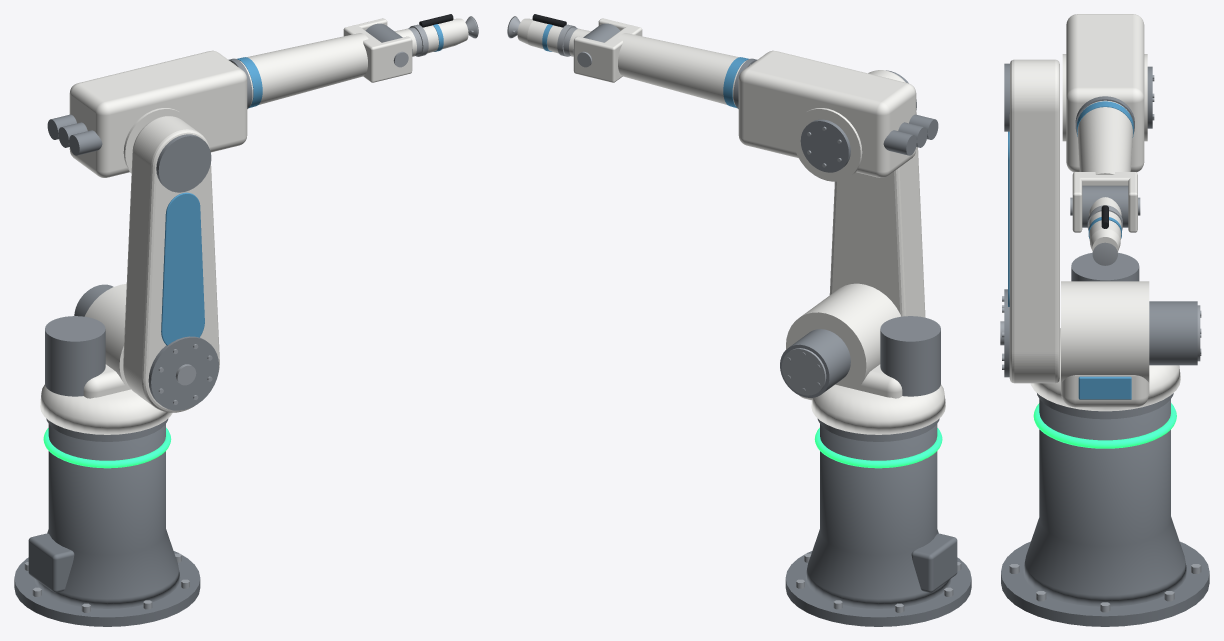
File: robot_painting.glb
3 renders of one model, left to right at view 1: azimuth 30°, elevation 25°; view 2: azimuth 150°, elevation 25°; view 3: azimuth 270°, elevation 25°, orthographic. The views are drawn at different scales.
Parts seen in each view (by area): view 1: Pedestal_base, Link3_body, Link2_body, Link4_body, Link1_body, Link2_joint, Link2_accent, Link1_joint, Link3_joint, StatusRing, BellAtomizer_body, Pedestal_joint; view 2: Pedestal_base, Link3_body, Link2_body, Link1_body, Link4_body, Link1_joint, Link3_joint, Link1_steel, StatusRing, BellAtomizer_body, Pedestal_joint; view 3: Pedestal_base, Link2_body, Link1_body, Link3_body, Link4_body, Link1_joint, StatusRing, Link1_accent, Link5_joint, Pedestal_joint, Link2_joint, BellAtomizer_body (+6 smaller).
Part boxes in pixels (x1=…): Pedestal_base: x1=14, y1=424, x2=200, y2=626; Link3_body: x1=69, y1=50, x2=247, y2=177; Link2_body: x1=123, y1=116, x2=219, y2=412; Link4_body: x1=232, y1=18, x2=412, y2=105; Link1_body: x1=40, y1=284, x2=172, y2=434; Link2_joint: x1=148, y1=134, x2=218, y2=410; Link2_accent: x1=161, y1=192, x2=204, y2=345; Link1_joint: x1=45, y1=284, x2=113, y2=396; Link3_joint: x1=47, y1=114, x2=102, y2=155; StatusRing: x1=43, y1=427, x2=171, y2=468; BellAtomizer_body: x1=423, y1=18, x2=468, y2=53; Pedestal_joint: x1=46, y1=418, x2=168, y2=441; Pedestal_base: x1=785, y1=424, x2=971, y2=626; Link3_body: x1=738, y1=50, x2=916, y2=181; Link2_body: x1=829, y1=70, x2=925, y2=317; Link1_body: x1=786, y1=283, x2=945, y2=434; Link4_body: x1=573, y1=18, x2=750, y2=105; Link1_joint: x1=780, y1=316, x2=940, y2=397; Link3_joint: x1=800, y1=114, x2=938, y2=172; Link1_steel: x1=781, y1=348, x2=826, y2=395; StatusRing: x1=814, y1=427, x2=942, y2=468; BellAtomizer_body: x1=517, y1=18, x2=562, y2=53; Pedestal_joint: x1=817, y1=418, x2=939, y2=441; Pedestal_base: x1=1001, y1=399, x2=1209, y2=626; Link2_body: x1=1009, y1=59, x2=1059, y2=383; Link1_body: x1=1030, y1=281, x2=1180, y2=411; Link3_body: x1=1062, y1=14, x2=1147, y2=172; Link4_body: x1=1072, y1=100, x2=1137, y2=232; Link1_joint: x1=1071, y1=252, x2=1197, y2=365; StatusRing: x1=1033, y1=403, x2=1176, y2=448; Link1_accent: x1=1078, y1=376, x2=1131, y2=399; Link5_joint: x1=1082, y1=185, x2=1128, y2=227; Pedestal_joint: x1=1037, y1=393, x2=1173, y2=419; Link2_joint: x1=1004, y1=63, x2=1009, y2=377; BellAtomizer_body: x1=1088, y1=211, x2=1121, y2=251.
Size of the model in its own units: 2.45 by 2.61 by 0.8865.
